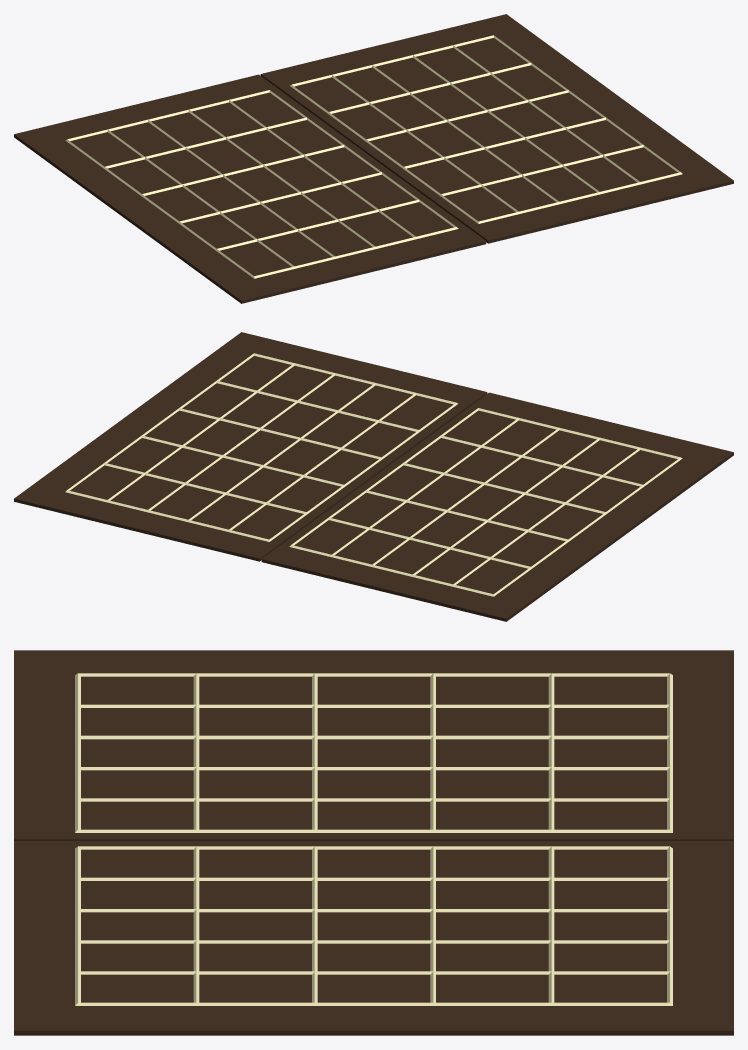
Rendered from board.fbx.
3 renders of one model, top to bottom at view 1: azimuth 30°, elevation 25°; view 2: azimuth 150°, elevation 25°; view 3: azimuth 270°, elevation 25°, orthographic. The views are drawn at different scales.
Visible parts, largest first — view 1: left, right; view 2: left, right; view 3: right, left.
Part boxes in pixels (x1,y1,x2,y2): left: (14, 74, 486, 303); right: (260, 14, 733, 243); left: (261, 392, 733, 621); right: (14, 332, 487, 561); right: (14, 841, 733, 1035); left: (14, 650, 733, 840).
Bounding box in the file's own units: 304 × 2.83 × 243.
